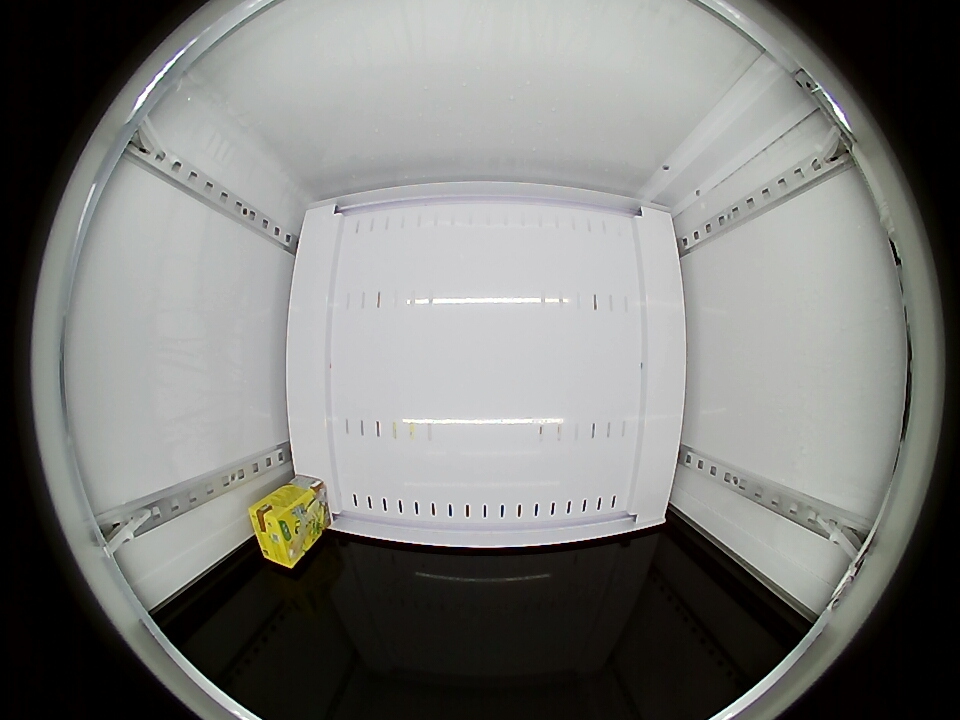weitaningmeng: (248, 495, 306, 568)
